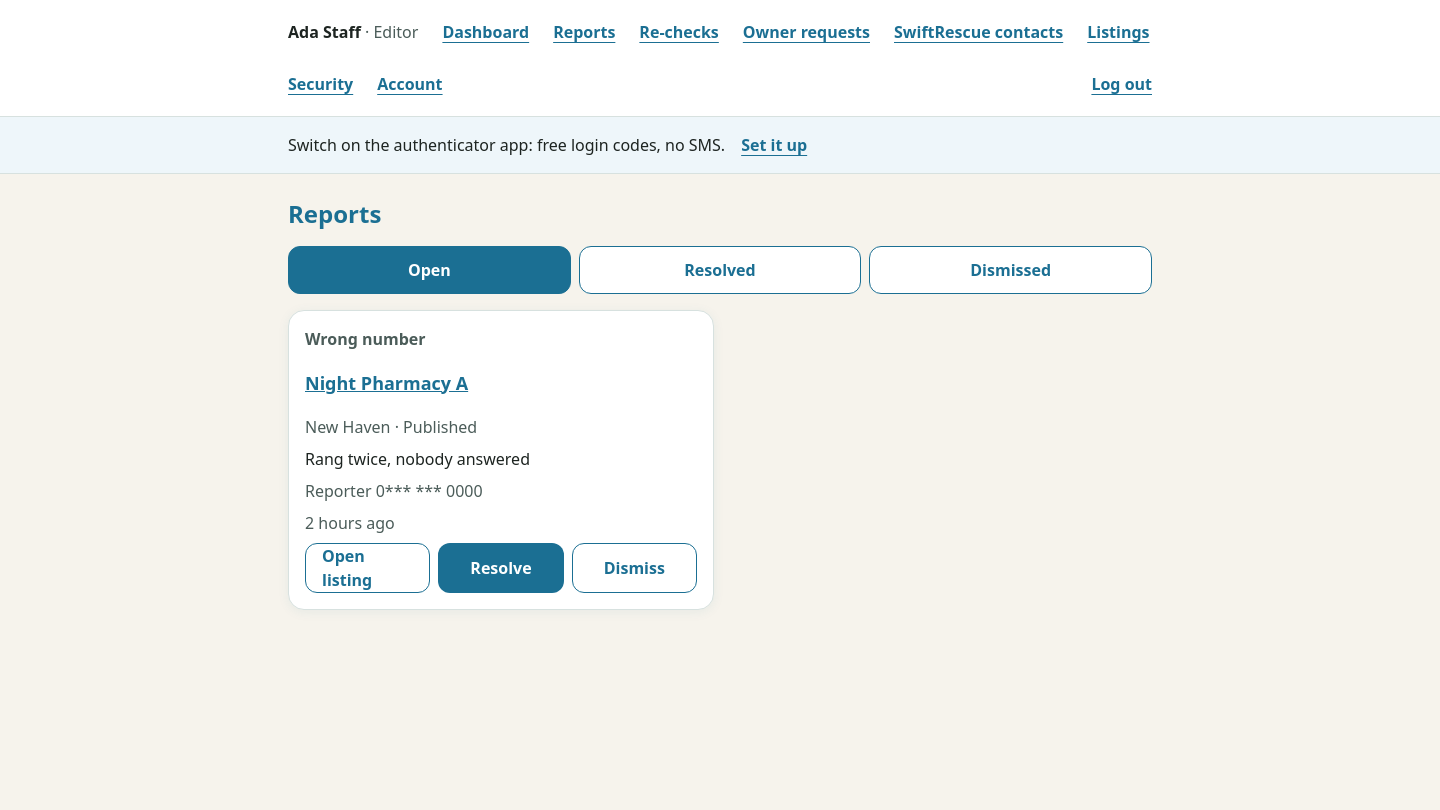
Test case: resolving and dismissing › Dismiss sends a PATCH with the token, removes the card and says what happened
This screenshot has width=1440, height=810.
Click the button "Dismiss".
click(634, 568)  # box [572, 543, 697, 593]
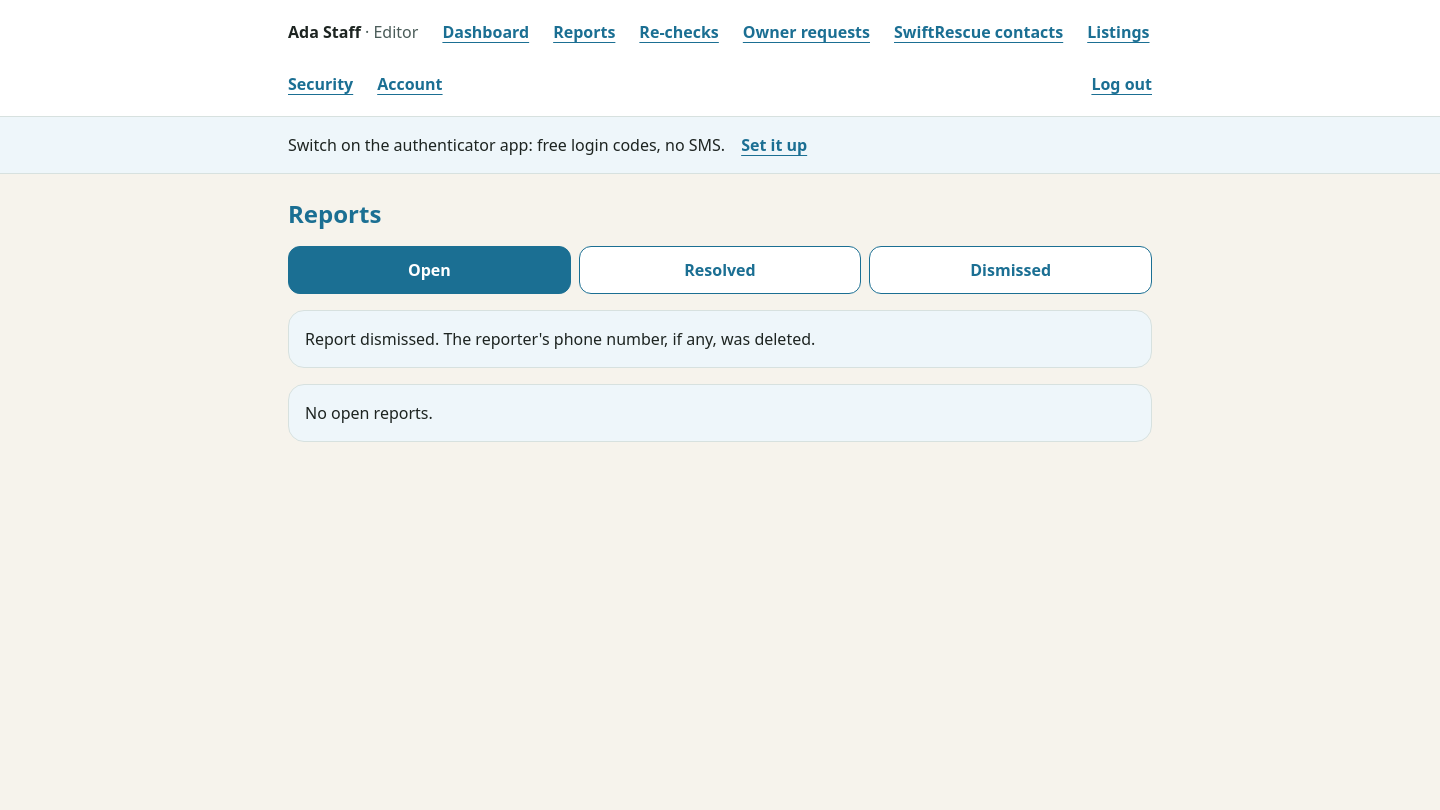
Expected: the message reads "Report dismissed. The reporter's phone number, if any, was deleted.", [305, 328, 815, 350]
Expected: the text "No open reports." is shown, [288, 384, 1152, 442]
